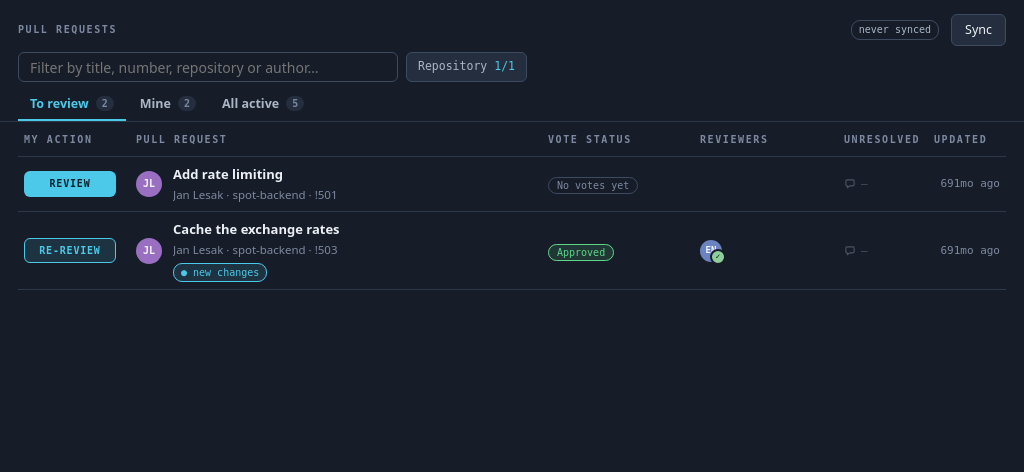
it: PrBoard tabs and queue order › my own pull request with a waiting reviewer leads the queue as a respond
This screenshot has width=1024, height=472.
Click the tab "All active 5": [263, 104] box [210, 86, 316, 121]
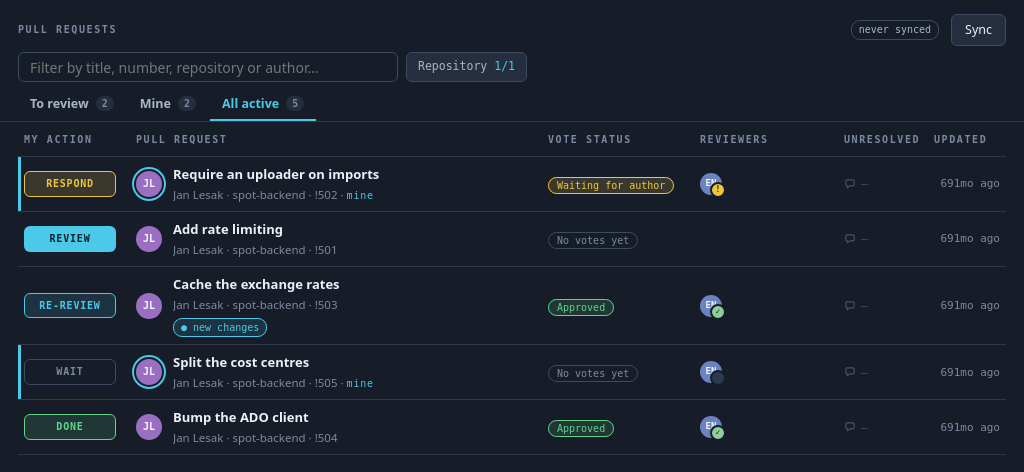
Check: the text with class "ix-prtable__title" reads "Require an uploader on imports", box [173, 165, 379, 183]
Check: the text with test id "pr-row-verb" reads "Respond", box [46, 178, 94, 189]
